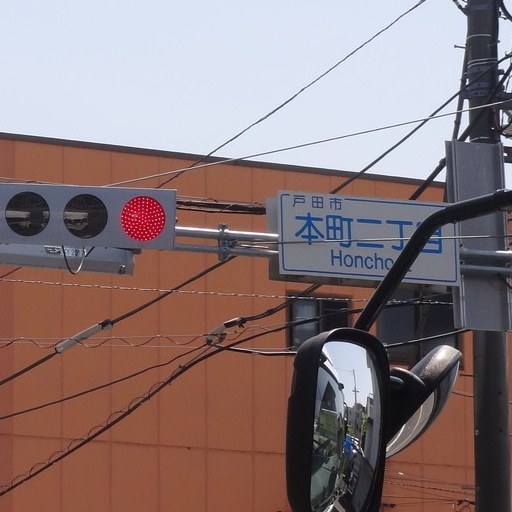Traffic_Signal_Red: (2, 181, 175, 250)
